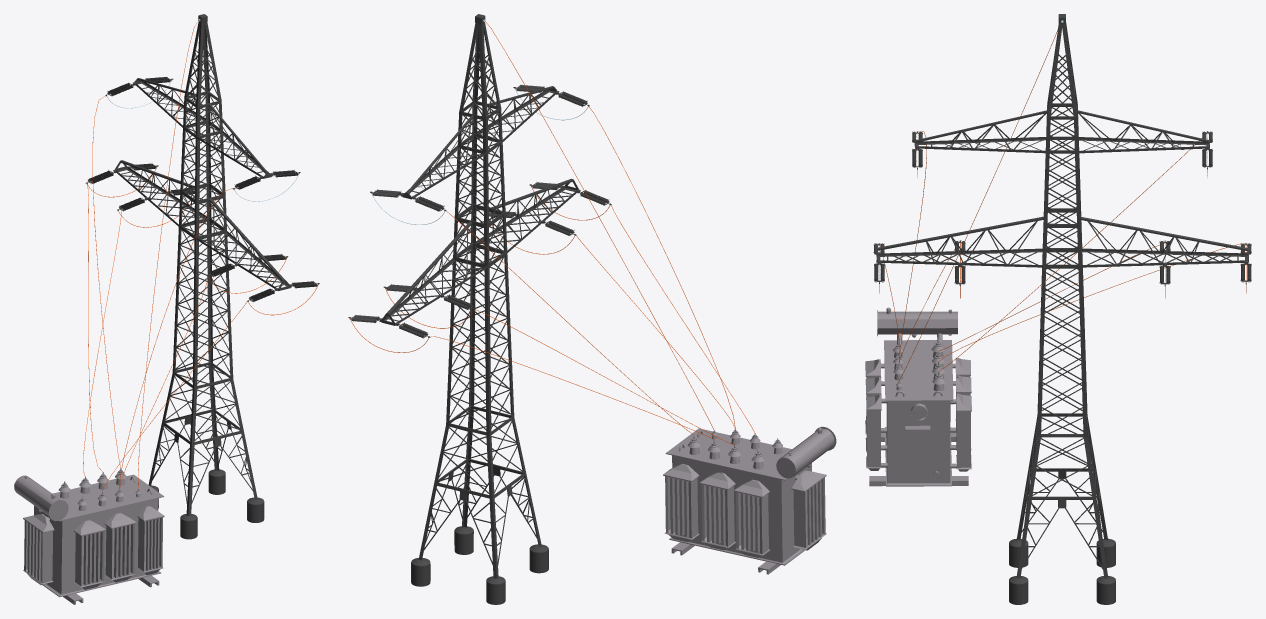
3 renders of one model, left to right at view 1: azimuth 30°, elevation 25°; view 2: azimuth 150°, elevation 25°; view 3: azimuth 270°, elevation 25°, orthographic. The views are drawn at different scales.
Parts seen in each view (by area): view 1: Power_Grid; view 2: Power_Grid; view 3: Power_Grid.
Boxes of the visible parts, x1=… form: Power_Grid: x1=14, y1=14, x2=319, y2=604; Power_Grid: x1=348, y1=14, x2=836, y2=604; Power_Grid: x1=865, y1=14, x2=1251, y2=604.
Bounding box in the file's own units: 3.53 × 6.08 × 3.76.
